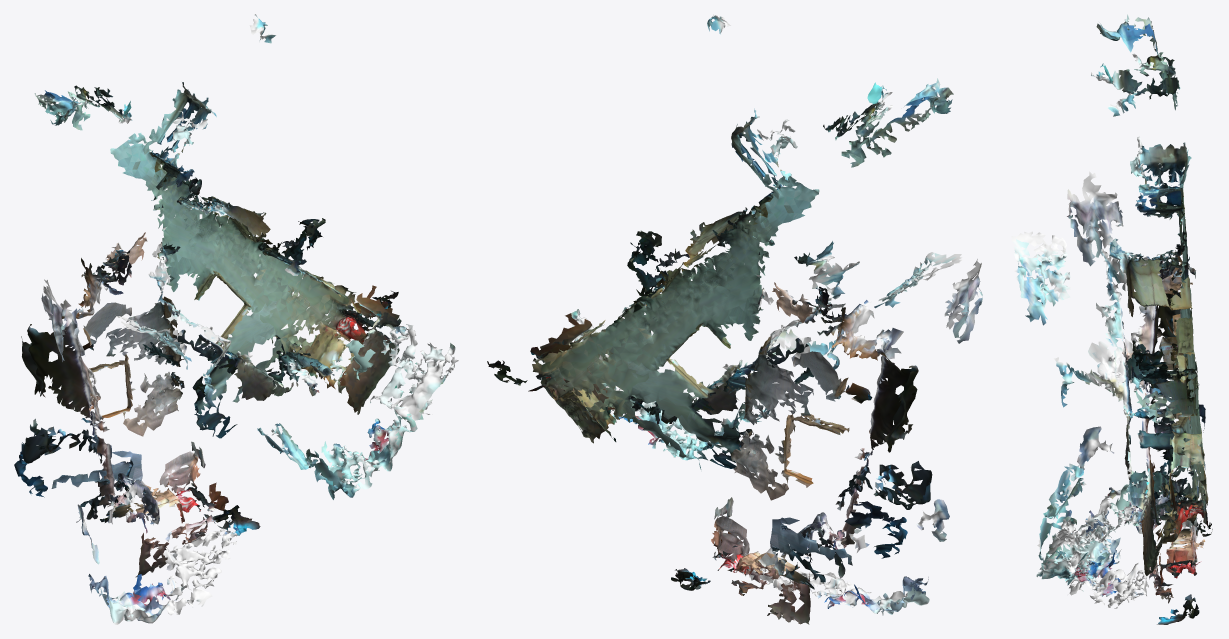
Rendered from rtabmap_mesh.obj.
3 renders of one model, left to right at view 1: azimuth 30°, elevation 25°; view 2: azimuth 150°, elevation 25°; view 3: azimuth 270°, elevation 25°, orthographic. The views are drawn at different scales.
Bounding box in the file's own units: 6.37 × 8.22 × 2.73.
3 materials, 3 textured.
